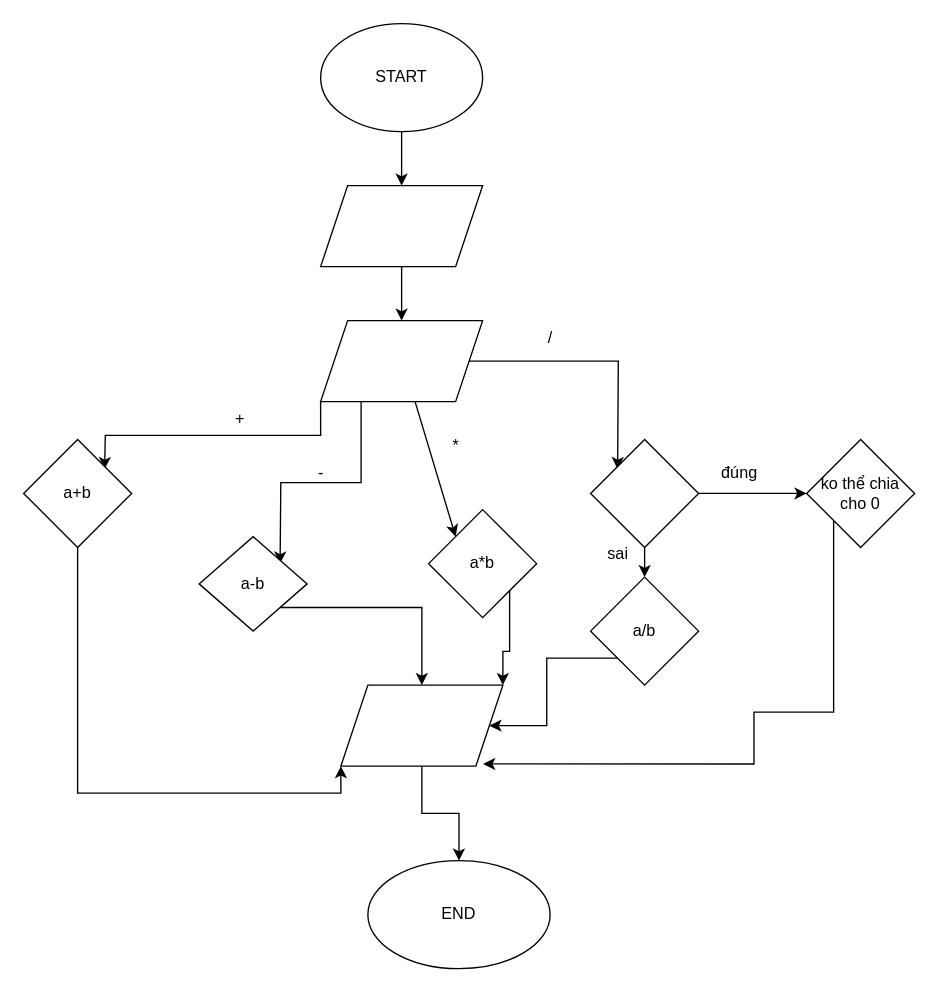
Image size: 938x992. Some labels were removed from this diagram. Here are the shapes that lost their labels. From the top down, the centre of each, then its label:
At [401,225]: "Nhập 2 số a,b".
At [401,360]: "Nhập phép tính".
At [644,492]: "Kiêm tra b=0".
At [421,725]: "Hiển thị kết quả".
